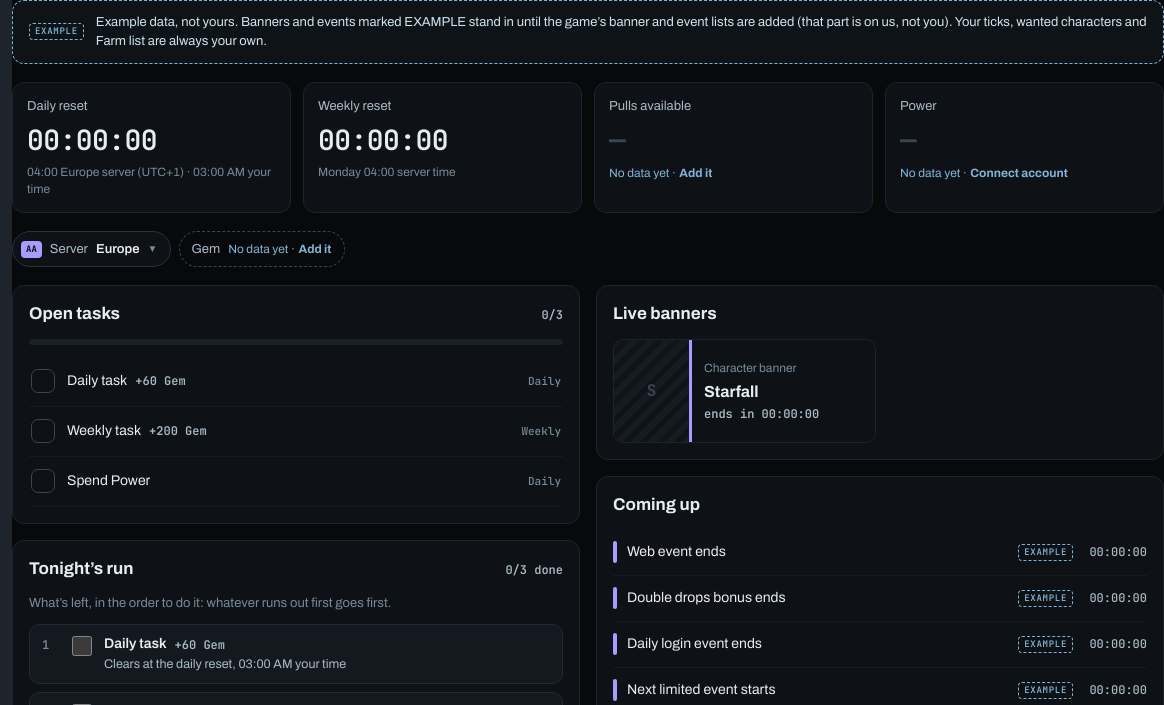
Test case: Today › ticking in the checklist stores the time and moves the task out of tonight’s run
Check: the text "Daily task" below "Tonight’s run" is shown, box x1=104 y1=636 x2=167 y2=651
What coordinates should you click on to do the following:
click the checkbox labelled "Daily task"
I would click on:
 (97, 380)
Its box is x1=29 y1=357 x2=563 y2=407.
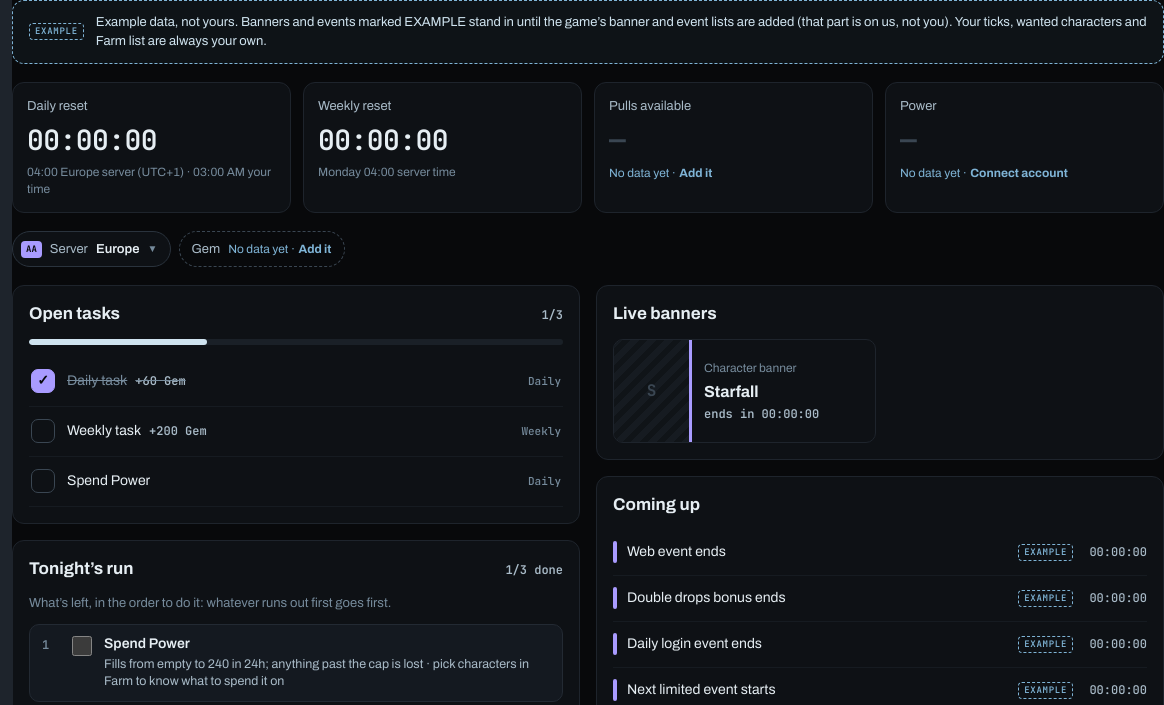
Check: the text "1/3 done" is shown, box x1=505 y1=562 x2=563 y2=578
